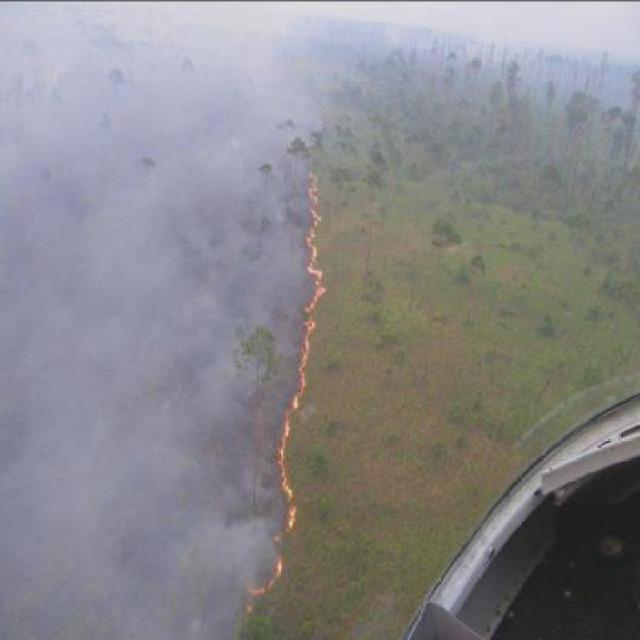Fire: (288, 169, 327, 403), (277, 412, 297, 534), (243, 552, 286, 596)
